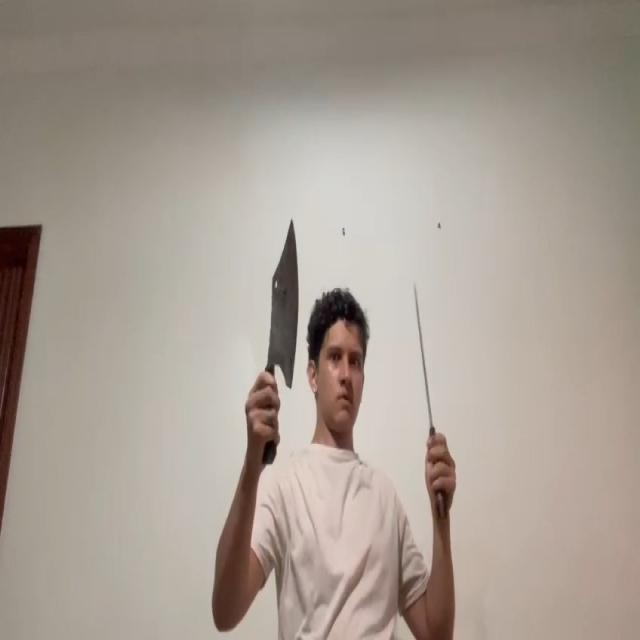knife: (267, 220, 298, 374)
